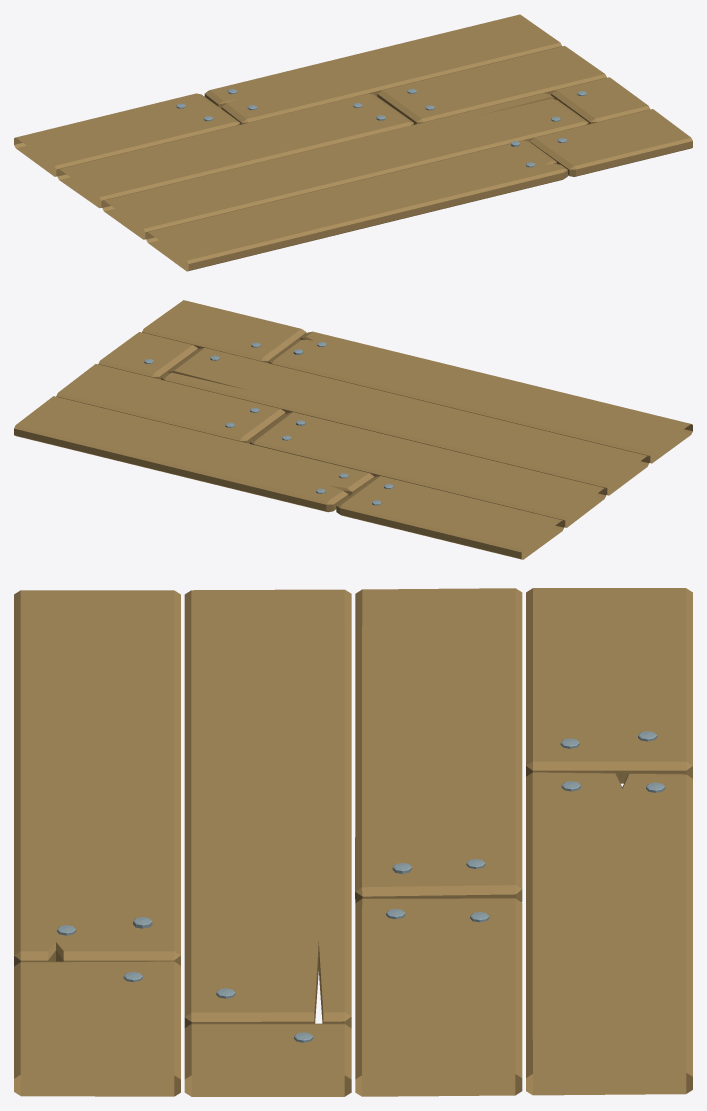
Rendered from Floor_type4_FIX.fbx.
3 views of the same model, one above another, from view 1: azimuth 30°, elevation 25°; view 2: azimuth 150°, elevation 25°; view 3: azimuth 270°, elevation 25° (orthographic). The views are drawn at different scales.
Parts seen in each view (by area): view 1: plain boards.016; view 2: plain boards.016; view 3: plain boards.016.
Boxes of the visible parts, x1,y1,x2,y2 form: plain boards.016: (14, 14, 692, 271); plain boards.016: (14, 300, 692, 559); plain boards.016: (14, 588, 692, 1096).
Bounding box in the file's own units: 283 × 10.04 × 167.
